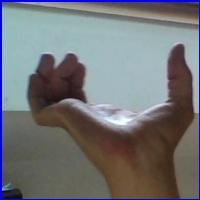B: (15, 40, 192, 173)
